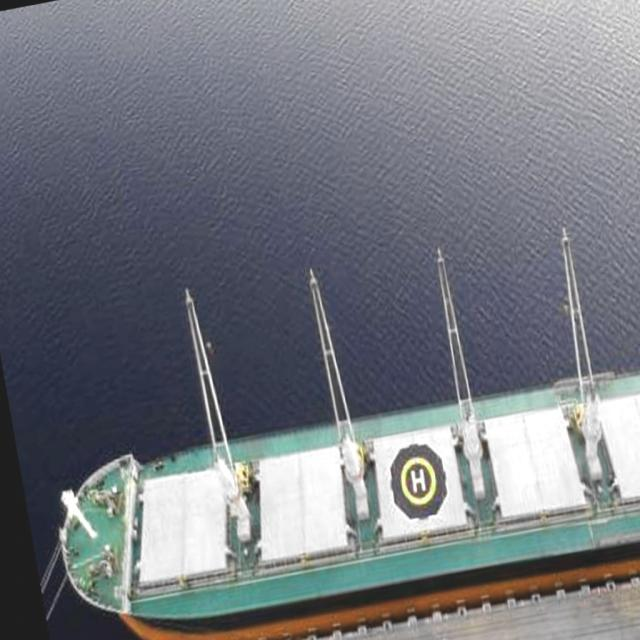helipad: (398, 454, 437, 506)
